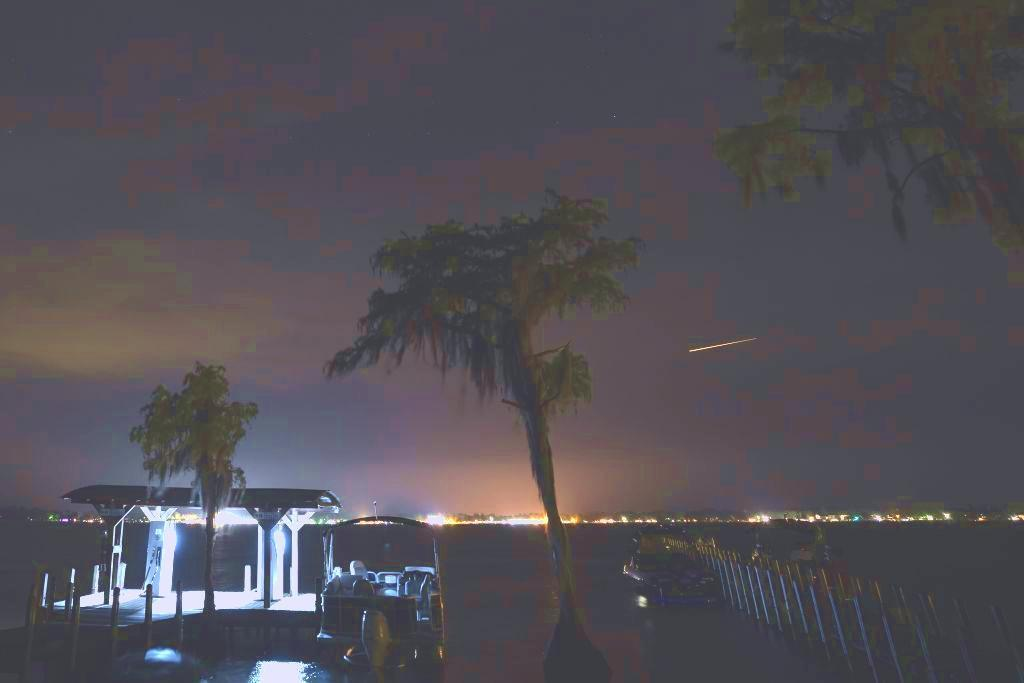meteorite: (681, 317, 759, 362)
